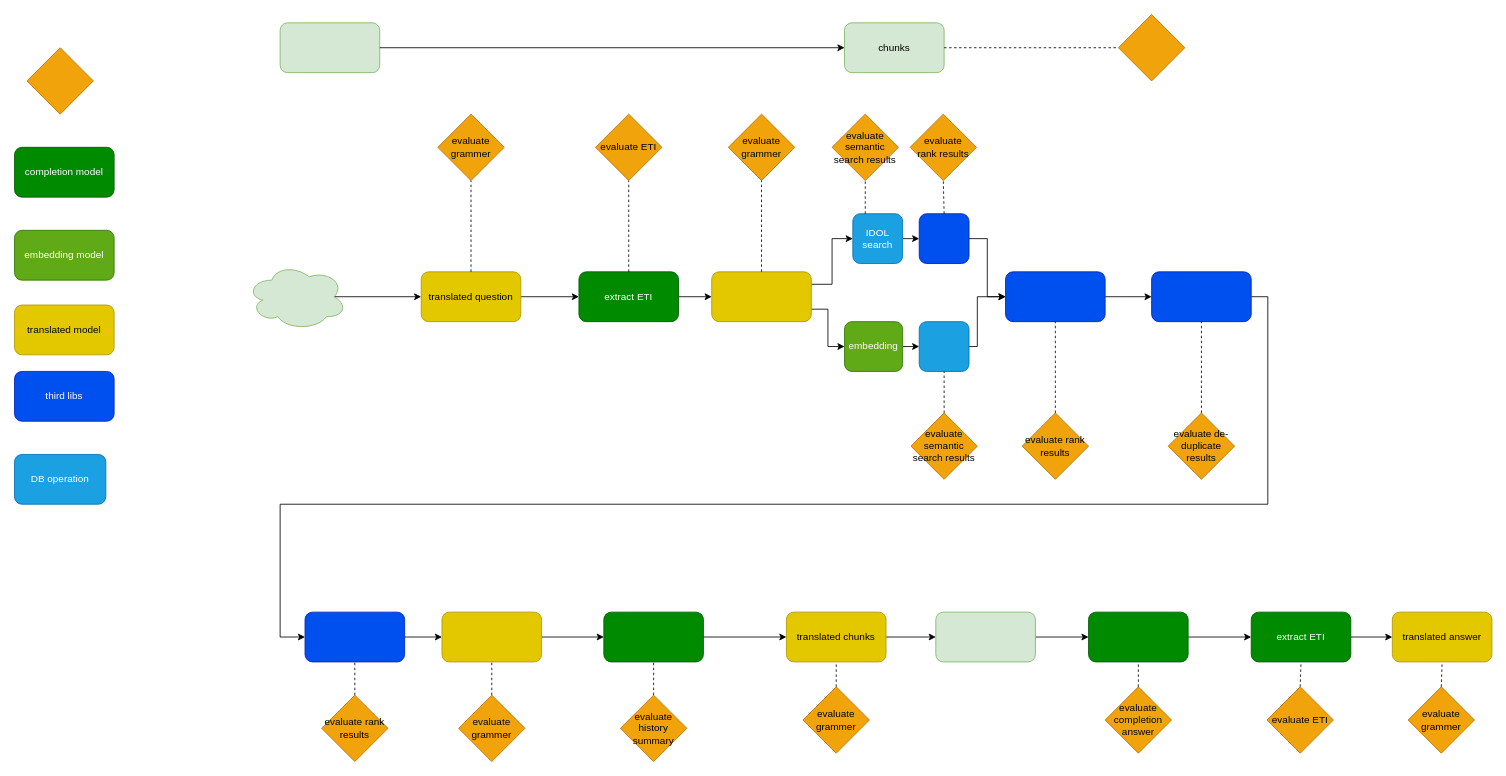
Image size: 1506x776. Some labels were removed from this diagram. The shapes that lost their labels are listed below. From the top down, each one's centre as x and y in pixels, then its label:
the point at 329,47: doc
the point at 1151,47: evaluate chunks
the point at 59,80: evaluation
the point at 943,238: BM25 rank
the point at 296,296: question
the point at 761,296: translated ETI
the point at 1055,296: re-rank
the point at 1201,296: de-duplicate
the point at 943,346: VDB search
the point at 354,636: re-rank history
the point at 491,636: translated history
the point at 653,636: summary history
the point at 985,636: compose prompt
the point at 1138,636: completion
